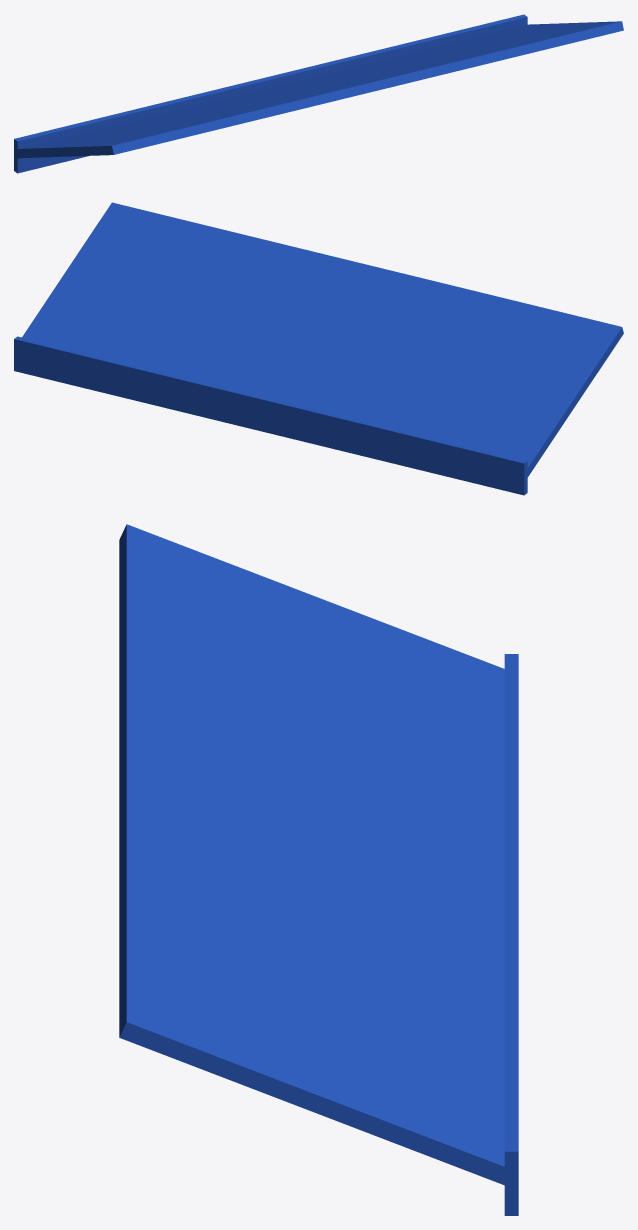
Rendered from env_awning_blue.fbx.
3 renders of one model, top to bottom at view 1: azimuth 30°, elevation 25°; view 2: azimuth 150°, elevation 25°; view 3: azimuth 270°, elevation 25°, orthographic. The views are drawn at different scales.
Visible parts, largest first — view 1: env_awning_blue_geo; view 2: env_awning_blue_geo; view 3: env_awning_blue_geo.
Part boxes in pixels (x1,y1,x2,y2): env_awning_blue_geo: [14, 14, 623, 173]; env_awning_blue_geo: [14, 202, 623, 495]; env_awning_blue_geo: [119, 524, 518, 1215].
Bounding box in the file's own units: 5 × 0.9073 × 1.69.
